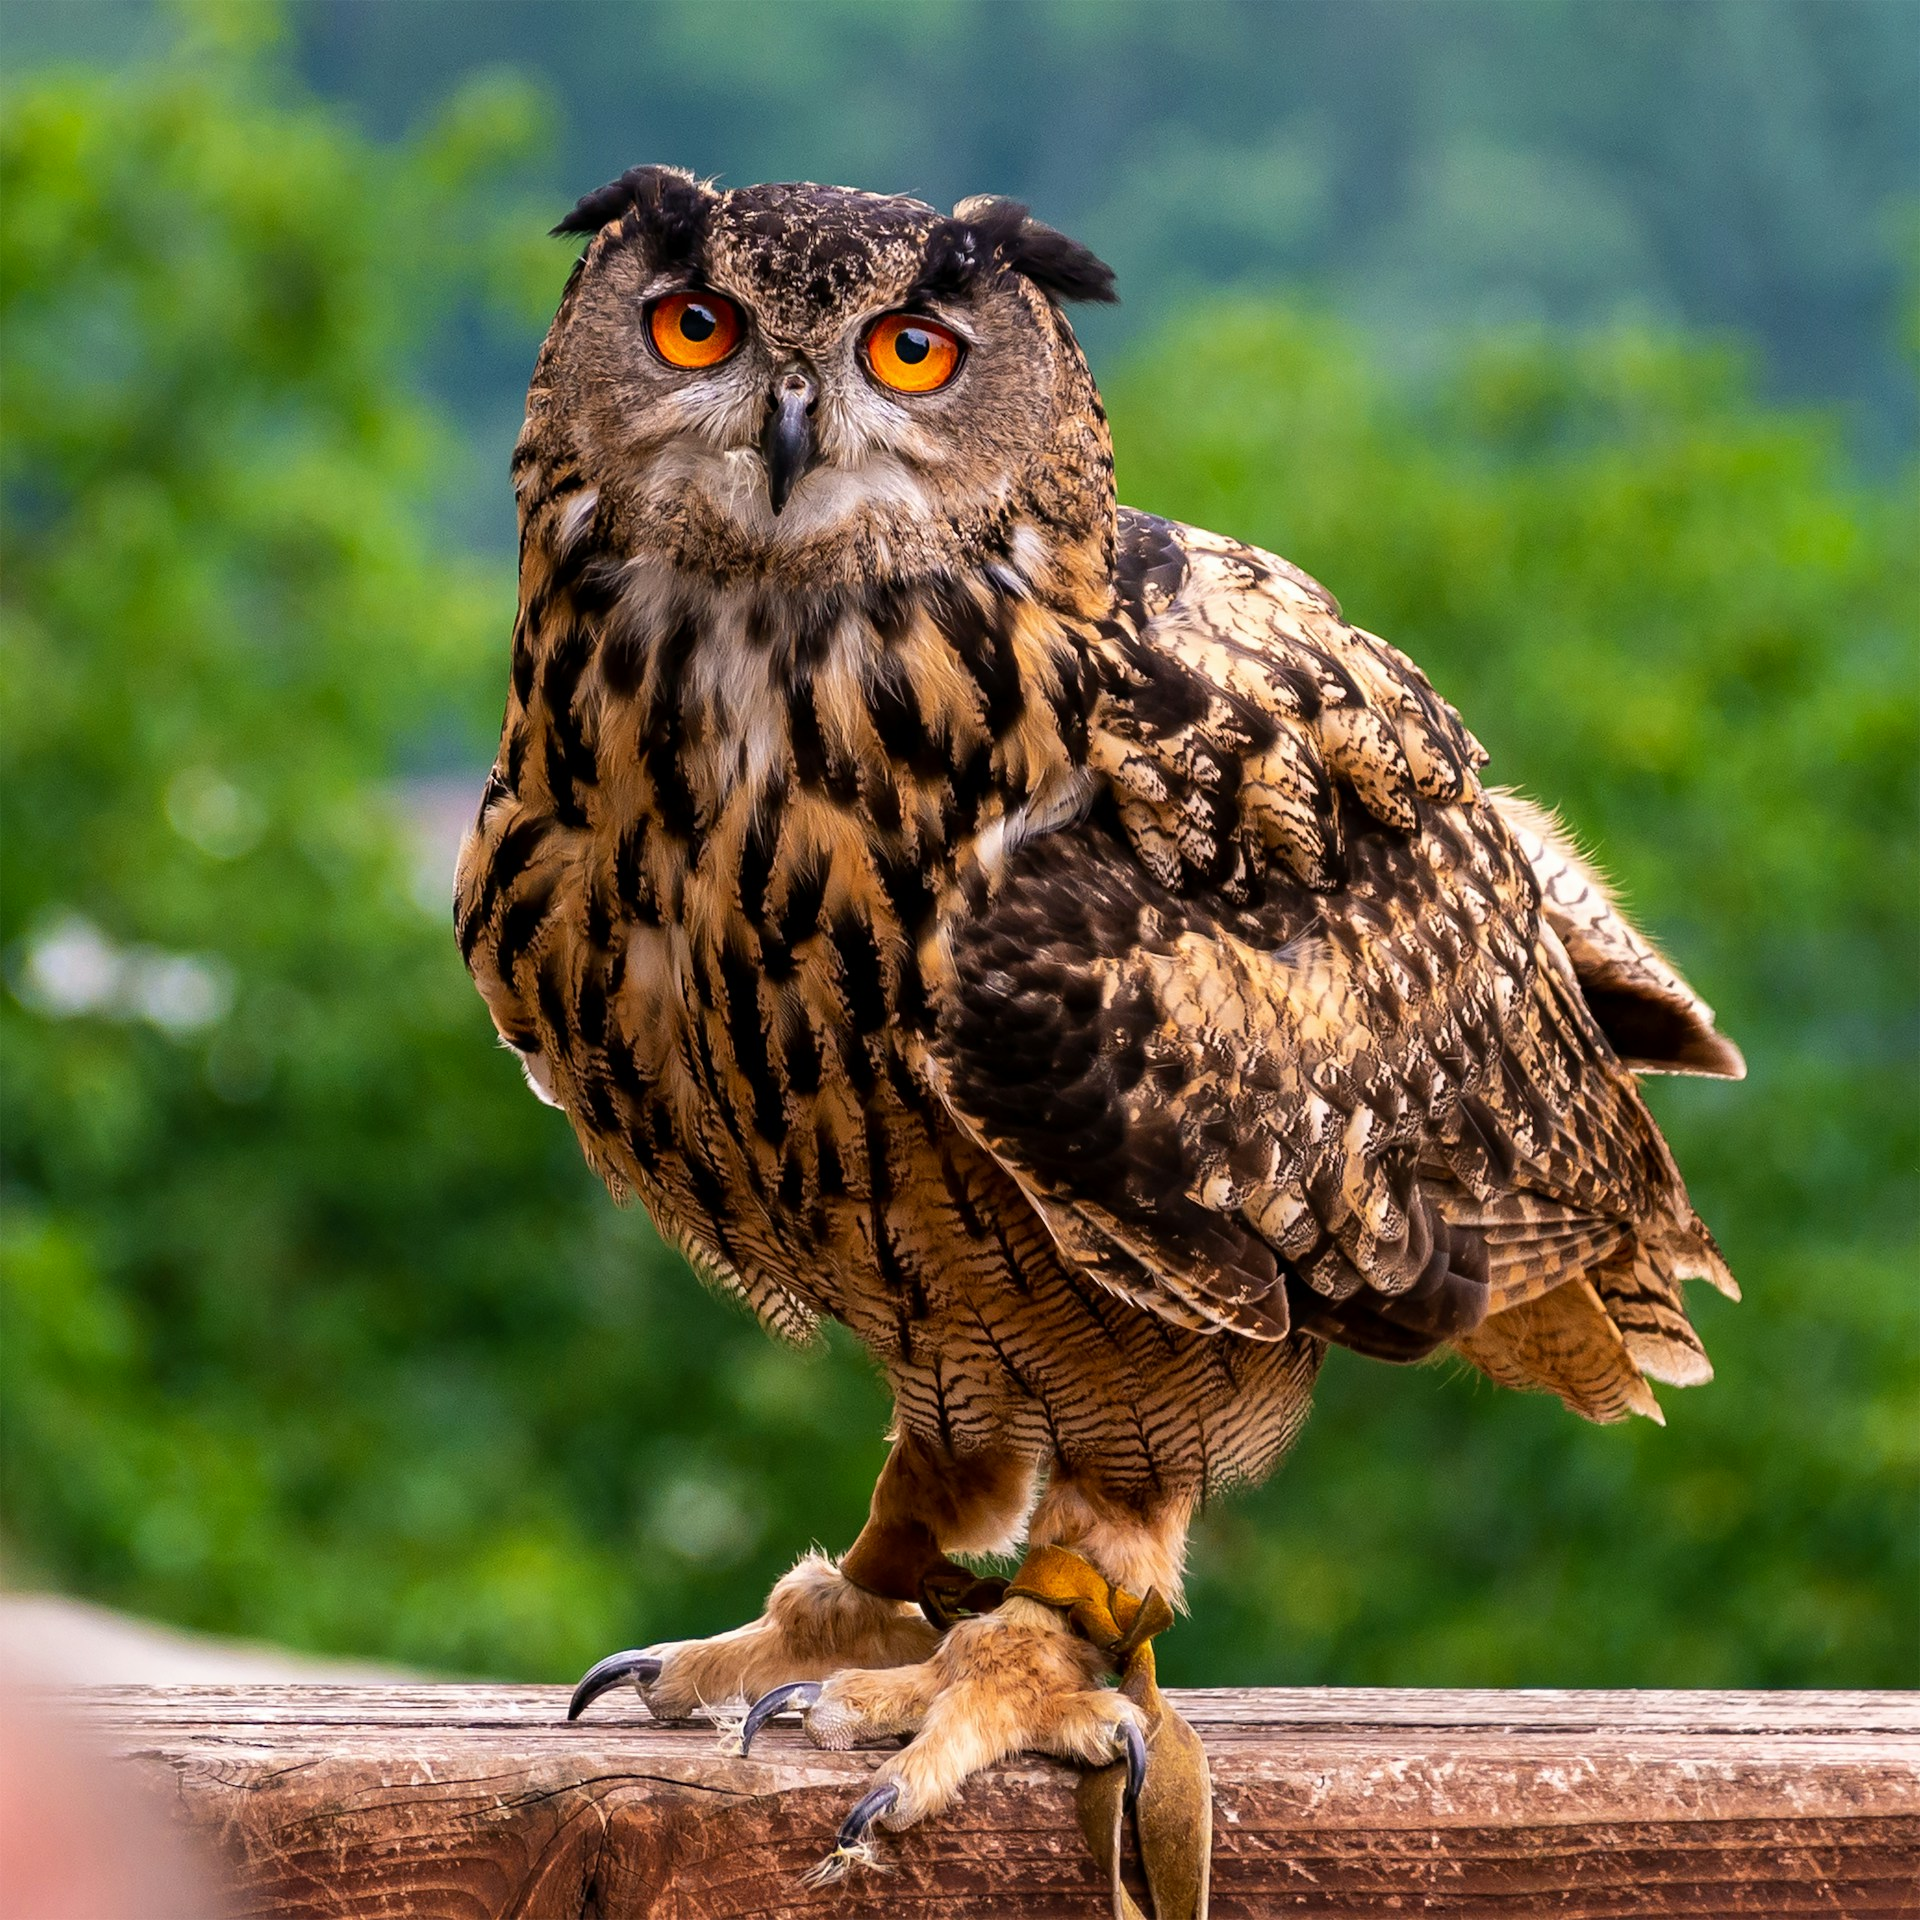owl: (431, 142, 1765, 1864)
